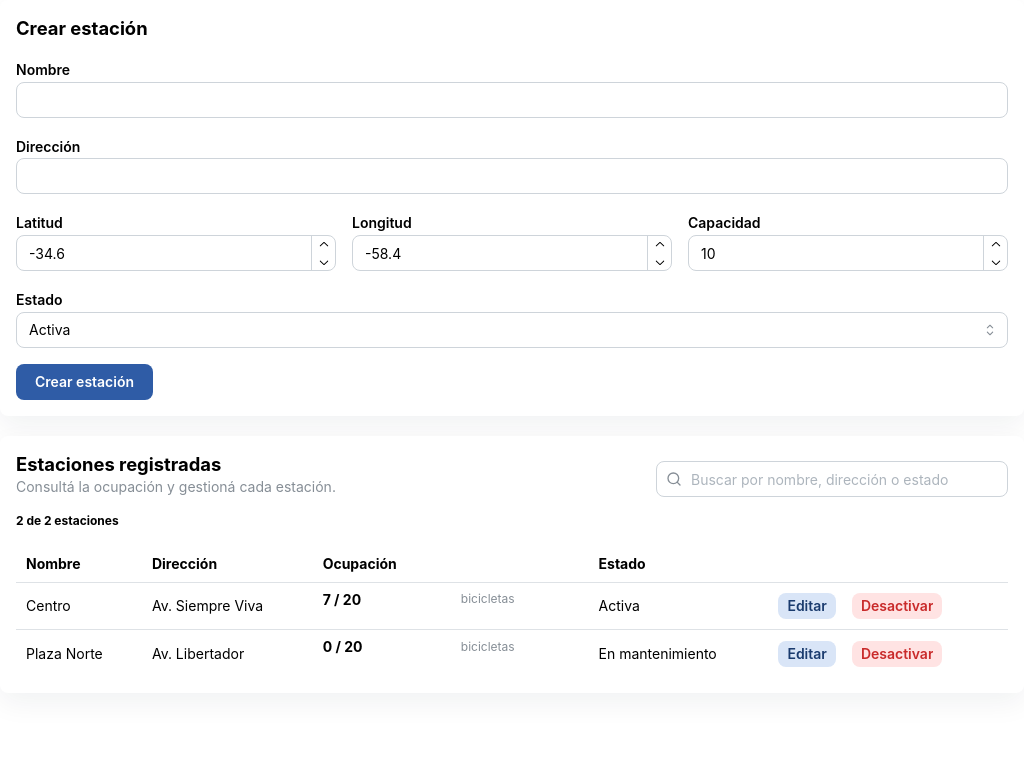
Scenario: StationManagement › busca estaciones por nombre, dirección o estado
Expected: the text "2 de 2 estaciones" is shown, [16,513,119,528]
Type "libertador" into the field named "Buscar estación para gestionar" at [832, 479], box [656,461,1008,497]
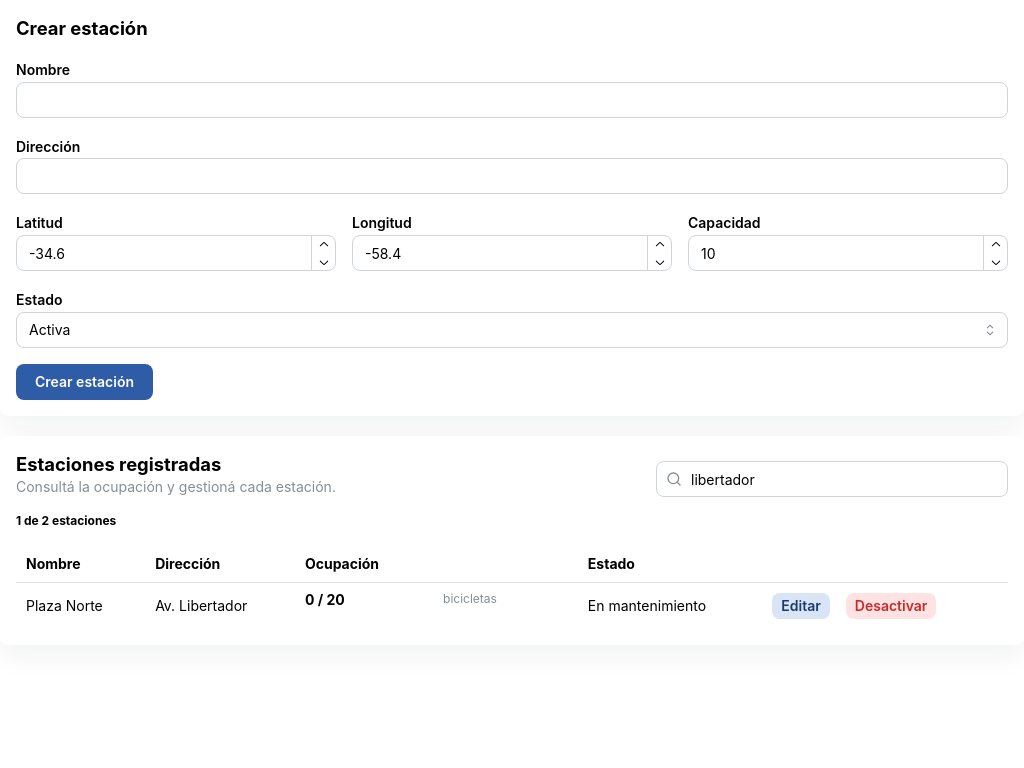
Expected: the text "Plaza Norte" is shown, [16,582,145,629]
Now the text "Centro" is gone
Now the text "1 de 2 estaciones" is shown, box [16,513,116,528]
Replace the text in the field named "Buscar estación para gestionar" with "activa" at [832, 479], box [656,461,1008,497]
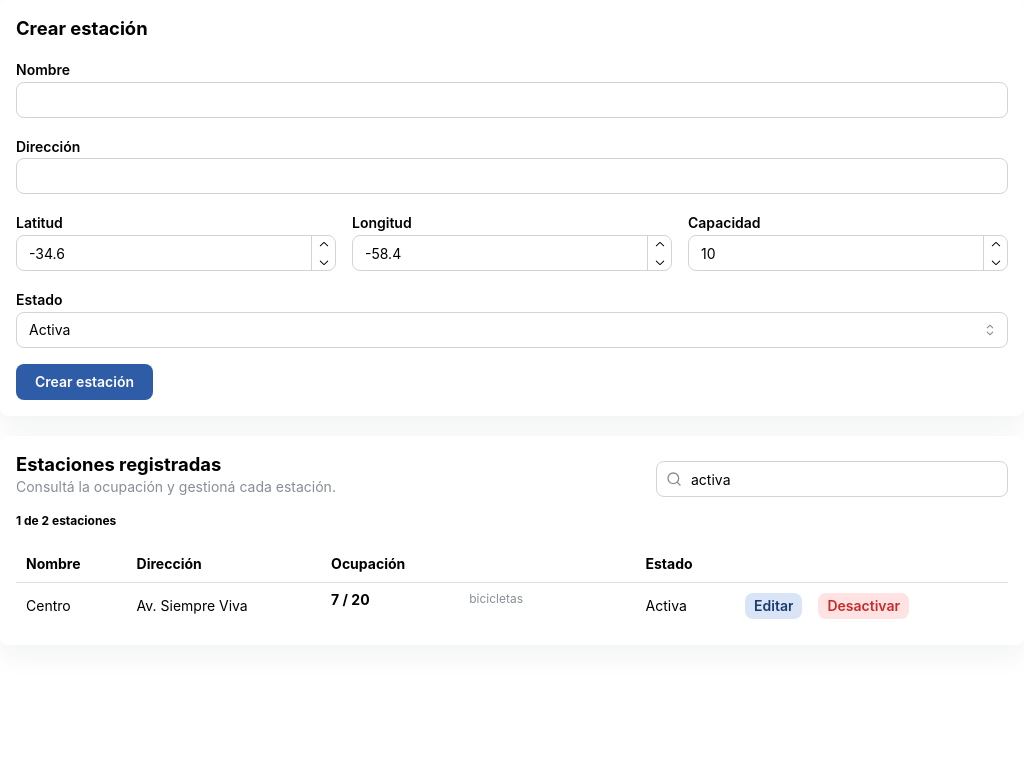
Now the text "Centro" is shown, box [16,582,127,629]
Now the text "Plaza Norte" is gone
